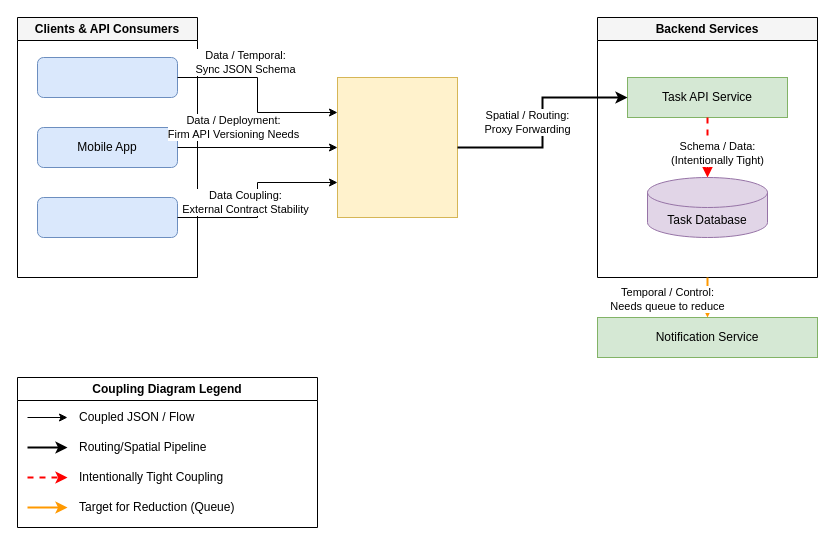
Image size: 835x545. Some labels were removed from this diagram. Each missing label, with the centre of its shape:
"API Gateway" goes at (397,147).
"Partner Integration" goes at (107,217).
"Web SPA" goes at (107,77).
